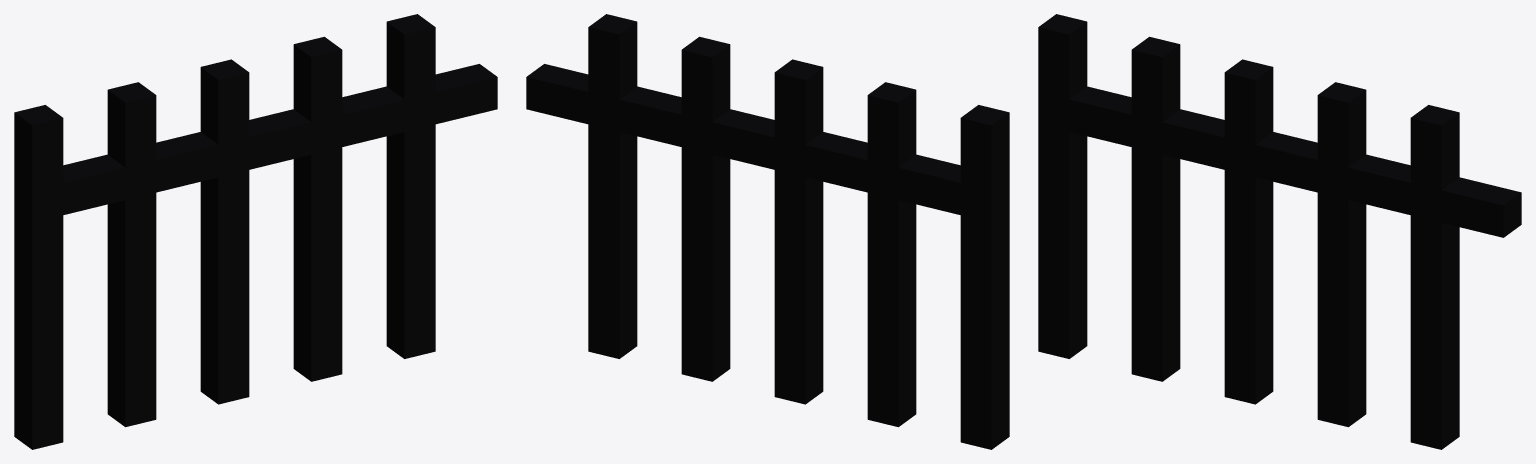
The model's file is church-70-gy_fencemetalal.glb.
3 views of the same model, side by side, from view 1: azimuth 30°, elevation 25°; view 2: azimuth 150°, elevation 25°; view 3: azimuth 330°, elevation 25° (orthographic).
Parts seen in each view (by area): view 1: gy_fencemetalal; view 2: gy_fencemetalal; view 3: gy_fencemetalal.
Part boxes in pixels (bbox=[...]): gy_fencemetalal: bbox=[14, 14, 497, 449]; gy_fencemetalal: bbox=[526, 14, 1009, 449]; gy_fencemetalal: bbox=[1038, 14, 1521, 449].
Bounding box in the file's own units: 1.5 × 1 × 0.1.
1 material, 1 textured.
